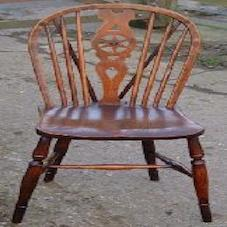chair: (17, 12, 211, 221)
